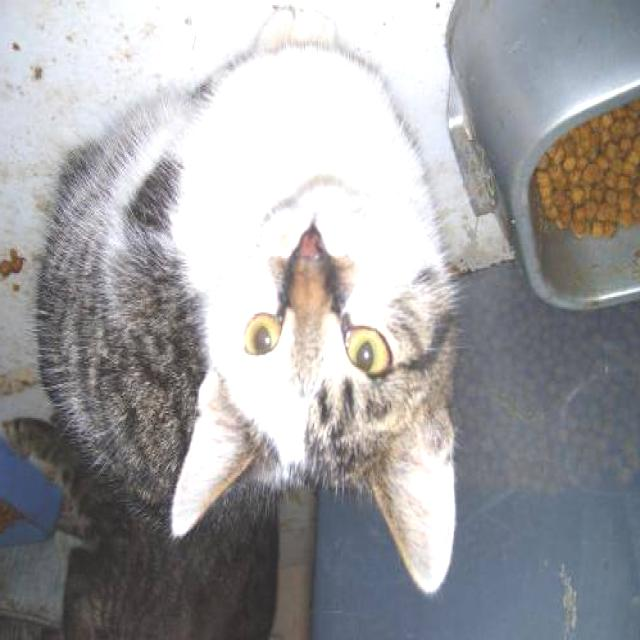Kucing: (11, 51, 504, 632)
